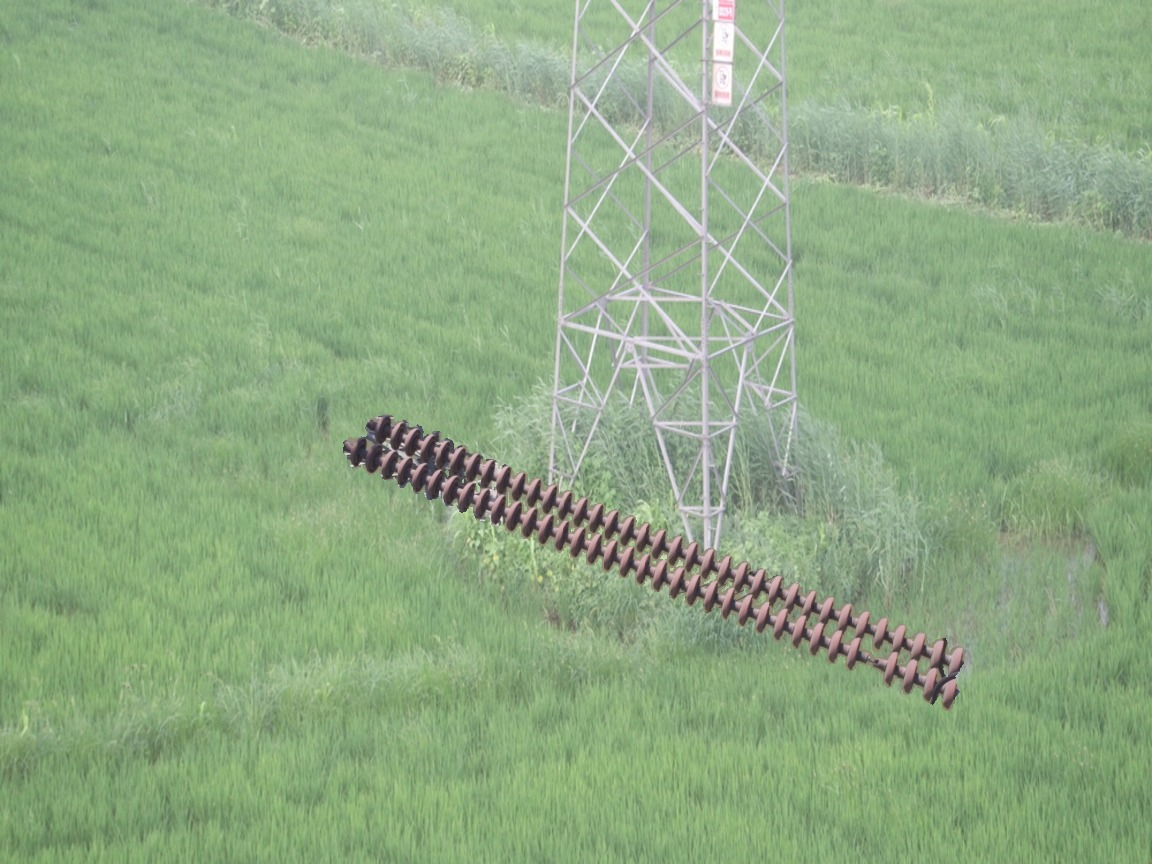defect: (841, 632, 904, 687)
